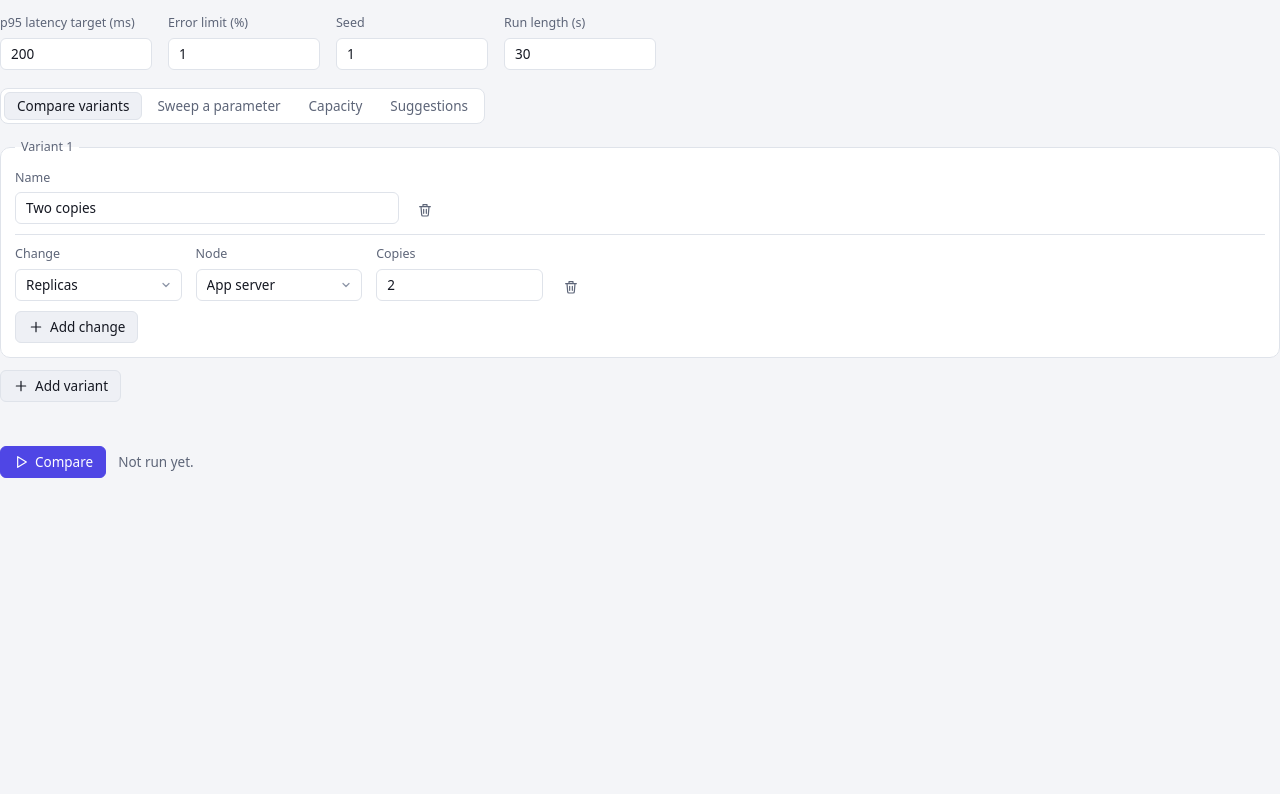
it: WhatIfTab › sweeps a parameter and says where the targets are first missed
Click the button "Sweep a parameter": (219,106) [144,92,294,120]
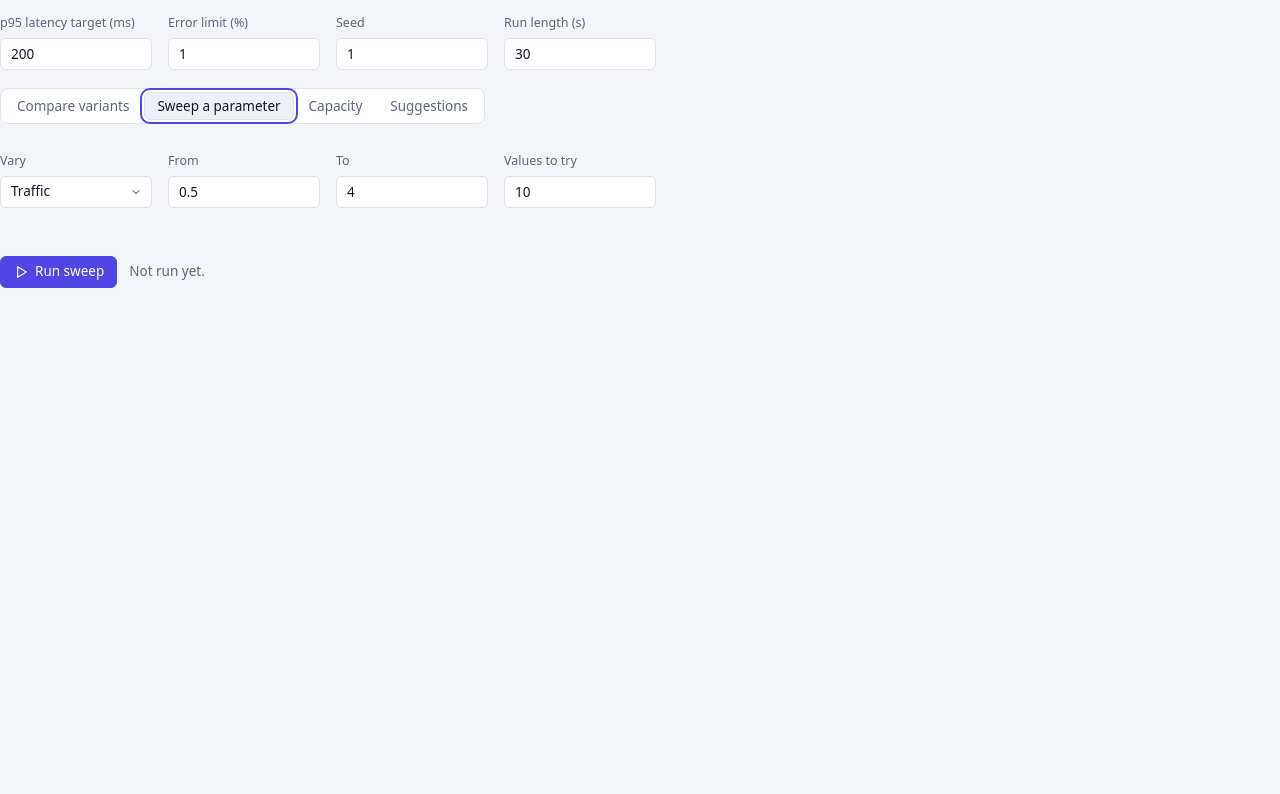
Click the button "Run sweep": (59,272) [0,256,117,288]
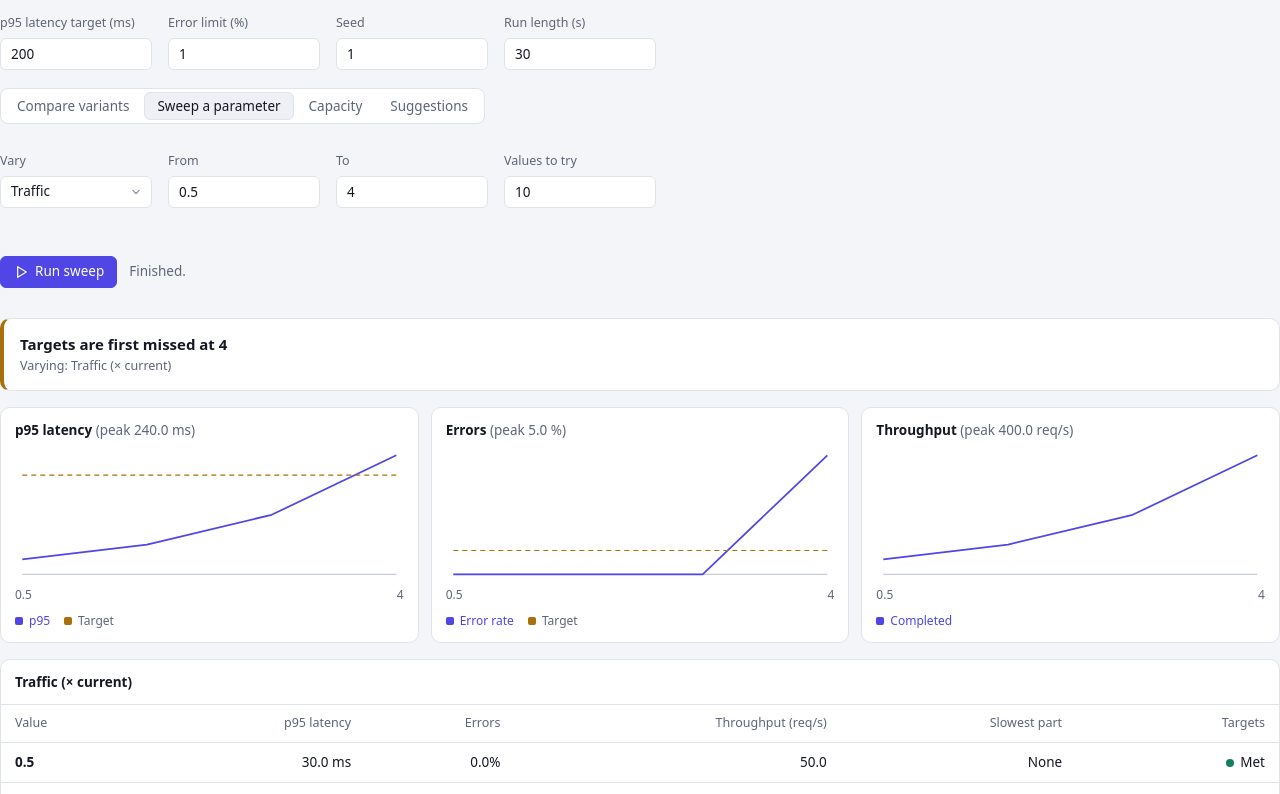
Result: the text "Targets are first missed at 4" is shown at [20,334,227,354]
Result: the picture named "p95 latency" is shown at [15,448,404,582]
